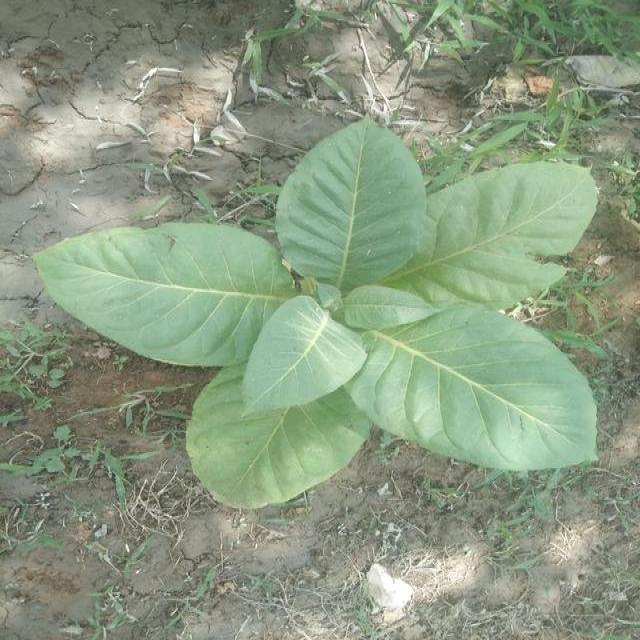crop: (30, 116, 603, 512)
